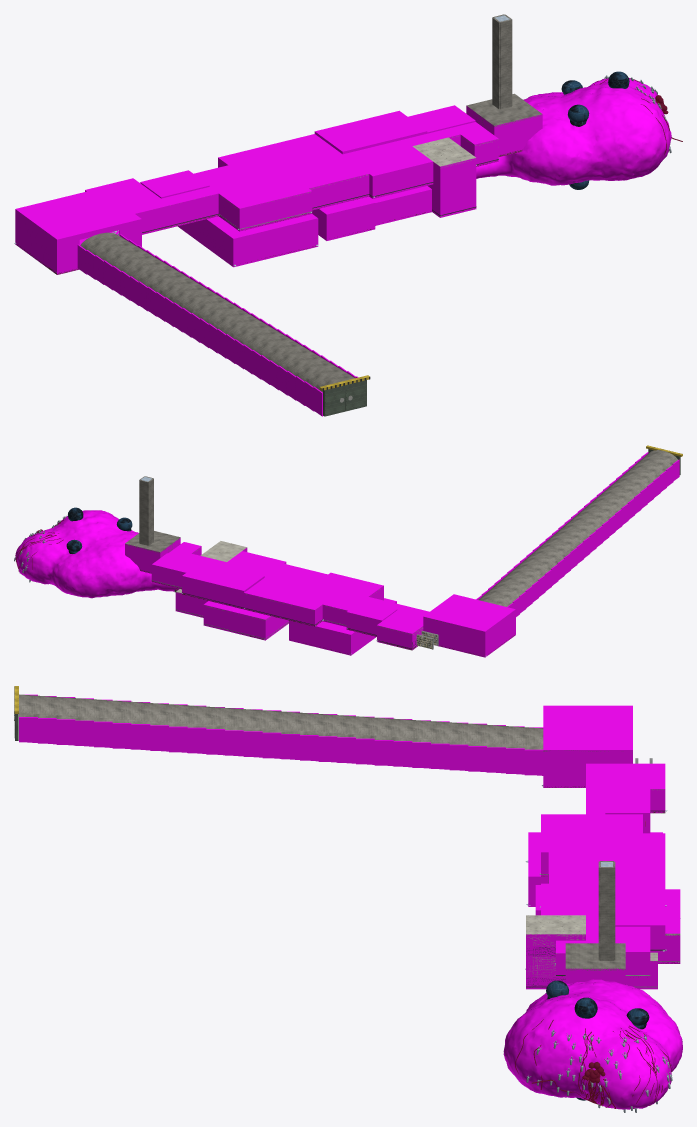
Rendered from bunker.glb.
3 renders of one model, top to bottom at view 1: azimuth 30°, elevation 25°; view 2: azimuth 150°, elevation 25°; view 3: azimuth 270°, elevation 25°, orthographic. The views are drawn at different scales.
Visible parts, largest first — view 1: COL_cave, R_tunnel, COL_tunnel, COL_garage, COL_corA, COL_reactor, COL_infirmary, R_fan, COL_barracks, COL_exchange, COL_canteen, COL_armory (+11 smaller); view 2: COL_cave, R_tunnel, COL_garage, COL_tunnel, COL_barracks, COL_canteen, COL_cryo, COL_reactor, COL_corA, R_fan, COL_archive, COL_office (+9 smaller); view 3: COL_cave, COL_tunnel, R_tunnel, COL_garage, R_fan, COL_corA, COL_canteen, COL_barracks, COL_infirmary, COL_archive, COL_stairs, R_stairs (+10 smaller).
Boxes of the visible parts, x1,y1,x2,y2 form: COL_cave: [476, 78, 671, 185]; R_tunnel: [80, 232, 354, 392]; COL_tunnel: [77, 234, 358, 416]; COL_garage: [15, 188, 141, 274]; COL_corA: [114, 122, 484, 235]; COL_reactor: [178, 214, 318, 267]; COL_infirmary: [218, 176, 312, 231]; R_fan: [466, 14, 542, 156]; COL_barracks: [218, 134, 342, 177]; COL_exchange: [352, 146, 433, 198]; COL_canteen: [314, 110, 427, 154]; COL_armory: [291, 161, 369, 210]; COL_cave: [15, 510, 179, 598]; R_tunnel: [479, 450, 677, 606]; COL_garage: [423, 594, 515, 657]; COL_tunnel: [476, 452, 679, 616]; COL_barracks: [244, 578, 334, 626]; COL_canteen: [182, 561, 264, 609]; COL_cryo: [203, 601, 288, 640]; COL_reactor: [289, 598, 396, 655]; COL_corA: [168, 549, 429, 616]; R_fan: [125, 476, 180, 573]; COL_archive: [377, 610, 423, 649]; COL_office: [346, 601, 397, 636]; COL_cave: [503, 979, 682, 1109]; COL_tunnel: [19, 694, 543, 775]; R_tunnel: [19, 694, 543, 749]; COL_garage: [543, 705, 632, 787]; R_fan: [565, 861, 625, 970]; COL_corA: [586, 763, 605, 943]; COL_canteen: [615, 881, 665, 952]; COL_barracks: [605, 833, 665, 880]; COL_infirmary: [541, 814, 585, 876]; COL_archive: [605, 763, 665, 813]; COL_stairs: [526, 934, 585, 989]; R_stairs: [526, 915, 585, 987].
Size of the model in its own units: 106 by 26.48 by 89.35.
50 materials, 23 textured.
